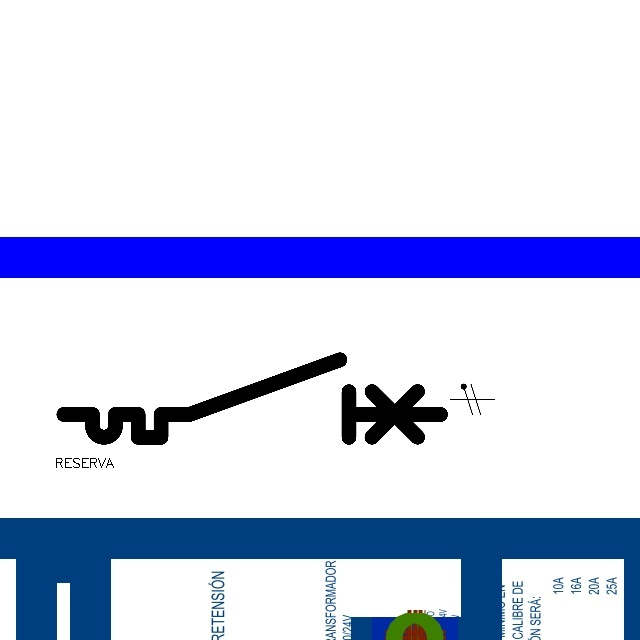interruptor_termomagnetico: (54, 350, 450, 447)
